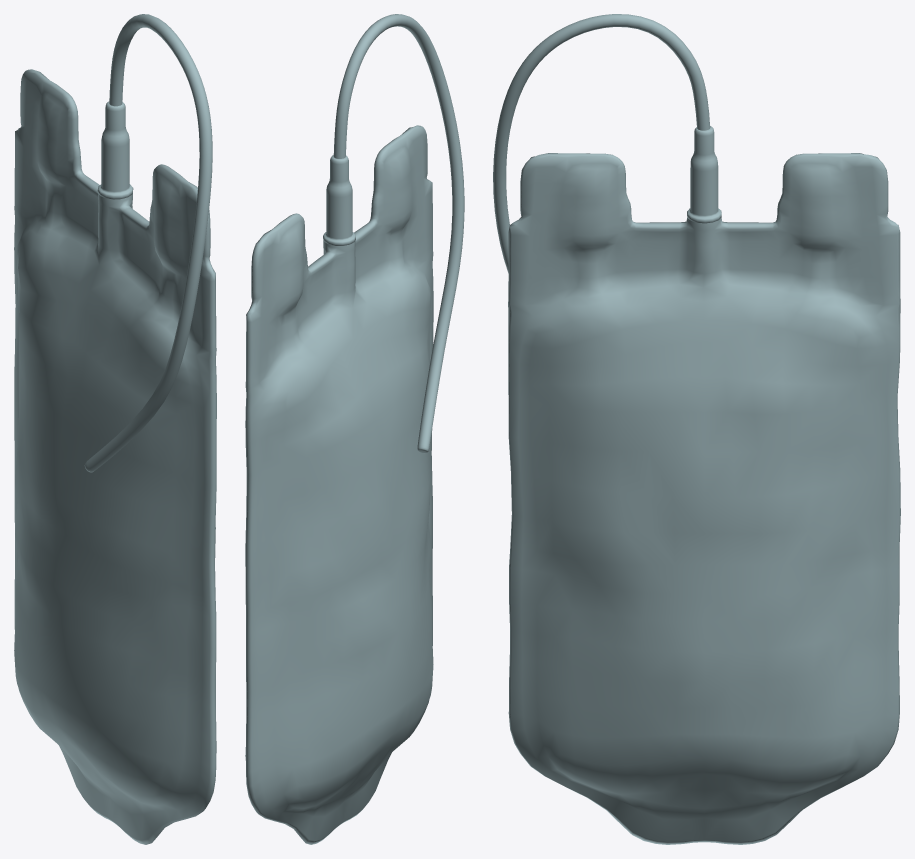
Rendered from BCMM_FluidBag.fbx.
3 views of the same model, side by side, from view 1: azimuth 30°, elevation 25°; view 2: azimuth 150°, elevation 25°; view 3: azimuth 270°, elevation 25° (orthographic). The views are drawn at different scales.
Parts seen in each view (by area): view 1: BCMM_FluidBag; view 2: BCMM_FluidBag; view 3: BCMM_FluidBag.
Boxes of the visible parts, box(x1,y1,x2,y2) form: BCMM_FluidBag: box(14, 14, 216, 844); BCMM_FluidBag: box(245, 14, 464, 844); BCMM_FluidBag: box(493, 14, 900, 844).
Size of what is drawn, in the model's own units: 3.99 by 24 by 10.68.
